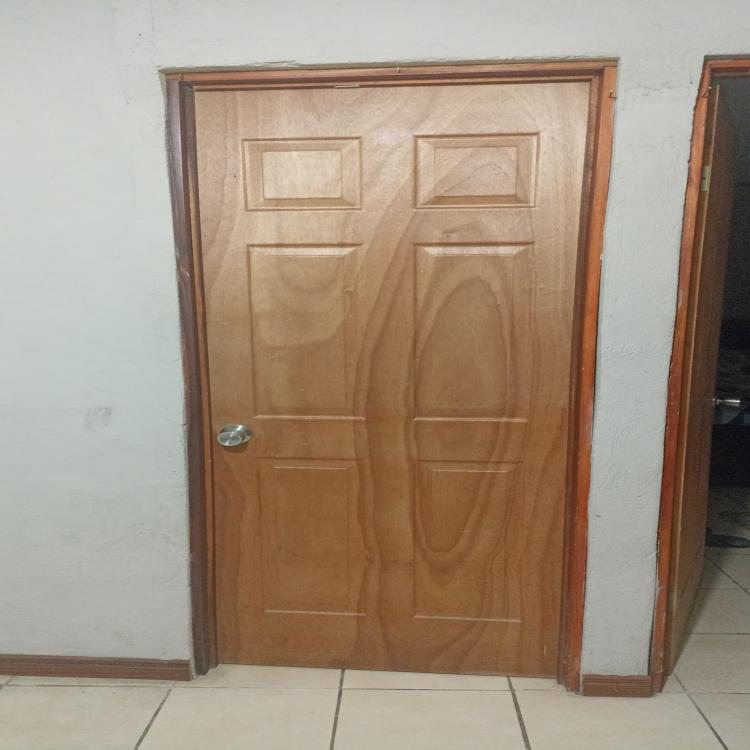ClosedDoor: (158, 54, 620, 696)
